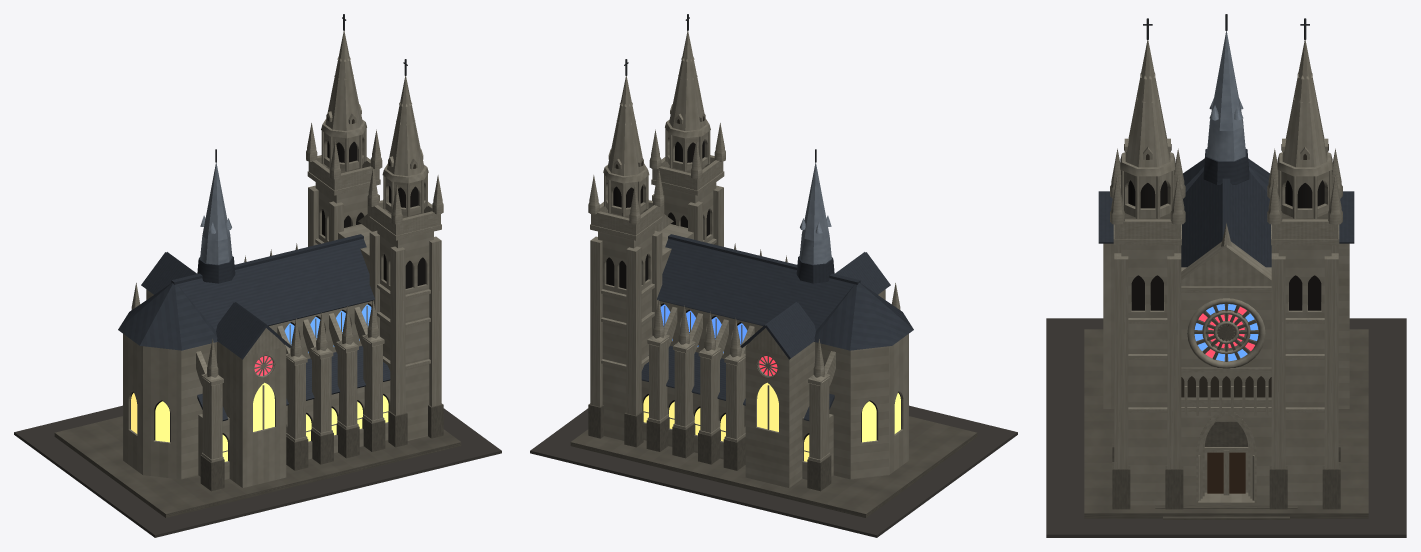
File: cathedral.glb
The picture shows the model from 3 angles, left to right: view 1: azimuth 30°, elevation 25°; view 2: azimuth 150°, elevation 25°; view 3: azimuth 270°, elevation 25°; orthographic projection. The views are drawn at different scales.
Parts seen in each view (by area): view 1: Mesh_Plaza, Mesh_NaveRoof_S, Mesh_Podium, Mesh_Apse, Mesh_Transept_S, Mesh_Tower_S, Mesh_ApseRoof, Mesh_TowerBut_Snp, Mesh_TowerBut_Spp, Mesh_Spire_S, Mesh_Spire_N, Mesh_TranseptRoof_Se (+27 smaller); view 2: Mesh_Plaza, Mesh_NaveRoof_N, Mesh_Podium, Mesh_Apse, Mesh_Transept_N, Mesh_Tower_N, Mesh_ApseRoof, Mesh_TowerBut_Nnn, Mesh_TowerBut_Npn, Mesh_Spire_N, Mesh_Spire_S, Mesh_TranseptRoof_Ne (+27 smaller); view 3: Mesh_Plaza, Mesh_Podium, Mesh_Tower_S, Mesh_Tower_N, Mesh_WestFront, Mesh_TowerBut_Spp, Mesh_TowerBut_Spn, Mesh_TowerBut_Npp, Mesh_TowerBut_Npn, Mesh_Spire_S, Mesh_Spire_N, Mesh_NaveRoof_S (+46 smaller).
Boxes of the visible parts, bbox=[...] form: Mesh_Plaza: bbox=[14, 405, 501, 537]; Mesh_NaveRoof_S: bbox=[173, 239, 374, 330]; Mesh_Podium: bbox=[54, 416, 461, 517]; Mesh_Apse: bbox=[123, 334, 216, 479]; Mesh_Transept_S: bbox=[217, 342, 286, 487]; Mesh_Tower_S: bbox=[377, 227, 433, 440]; Mesh_ApseRoof: bbox=[118, 283, 217, 350]; Mesh_TowerBut_Snp: bbox=[390, 246, 405, 415]; Mesh_TowerBut_Spp: bbox=[429, 236, 441, 406]; Mesh_Spire_S: bbox=[387, 76, 424, 175]; Mesh_Spire_N: bbox=[325, 31, 362, 130]; Mesh_TranseptRoof_Se: bbox=[216, 302, 265, 359]; Mesh_Plaza: bbox=[530, 405, 1017, 537]; Mesh_NaveRoof_N: bbox=[657, 239, 854, 330]; Mesh_Podium: bbox=[570, 416, 977, 517]; Mesh_Apse: bbox=[815, 334, 908, 479]; Mesh_Transept_N: bbox=[745, 342, 814, 487]; Mesh_Tower_N: bbox=[598, 227, 654, 440]; Mesh_ApseRoof: bbox=[814, 283, 913, 350]; Mesh_TowerBut_Nnn: bbox=[626, 246, 641, 415]; Mesh_TowerBut_Npn: bbox=[590, 236, 602, 406]; Mesh_Spire_N: bbox=[607, 76, 644, 175]; Mesh_Spire_S: bbox=[669, 31, 706, 130]; Mesh_TranseptRoof_Ne: bbox=[766, 302, 815, 359]; Mesh_Plaza: bbox=[1046, 318, 1406, 537]; Mesh_Podium: bbox=[1084, 329, 1368, 518]; Mesh_Tower_S: bbox=[1121, 245, 1174, 505]; Mesh_Tower_N: bbox=[1278, 245, 1331, 505]; Mesh_WestFront: bbox=[1181, 267, 1271, 504]; Mesh_TowerBut_Spp: bbox=[1114, 253, 1128, 468]; Mesh_TowerBut_Spn: bbox=[1167, 253, 1181, 468]; Mesh_TowerBut_Npp: bbox=[1271, 253, 1285, 468]; Mesh_TowerBut_Npn: bbox=[1324, 253, 1338, 468]; Mesh_Spire_S: bbox=[1125, 40, 1170, 167]; Mesh_Spire_N: bbox=[1282, 40, 1327, 167]; Mesh_NaveRoof_S: bbox=[1181, 171, 1222, 267].
Bounding box in the file's own units: 54 × 56.35 × 38.
15 materials, 4 textured.
